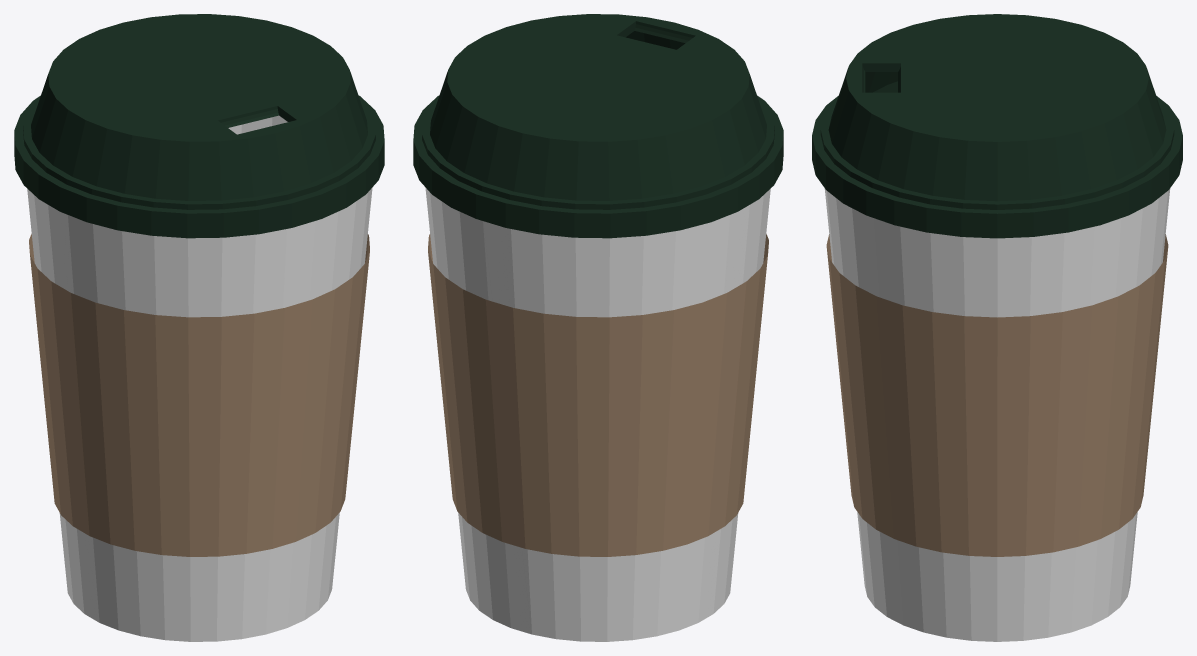
The model's file is StarsucksBrandCoffee.fbx.
3 renders of one model, left to right at view 1: azimuth 30°, elevation 25°; view 2: azimuth 150°, elevation 25°; view 3: azimuth 270°, elevation 25°, orthographic.
Parts seen in each view (by area): view 1: cup; view 2: cup; view 3: cup.
Part boxes in pixels (x1=…): cup: x1=14, y1=14, x2=384, y2=641; cup: x1=413, y1=14, x2=783, y2=641; cup: x1=812, y1=14, x2=1182, y2=641.
Bounding box in the file's own units: 279 × 422 × 279.
